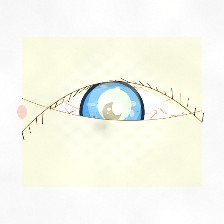corneal_ulcer: (87, 83, 142, 128)
